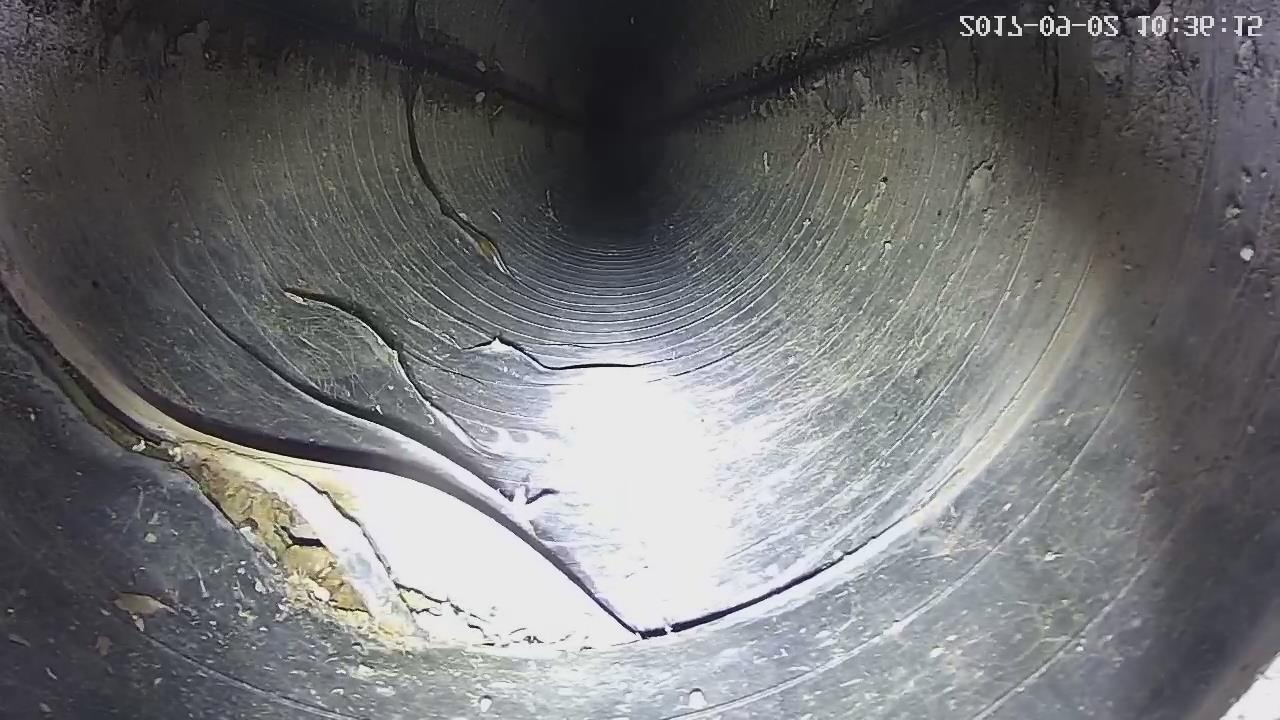JKCL: (3, 254, 671, 678)
